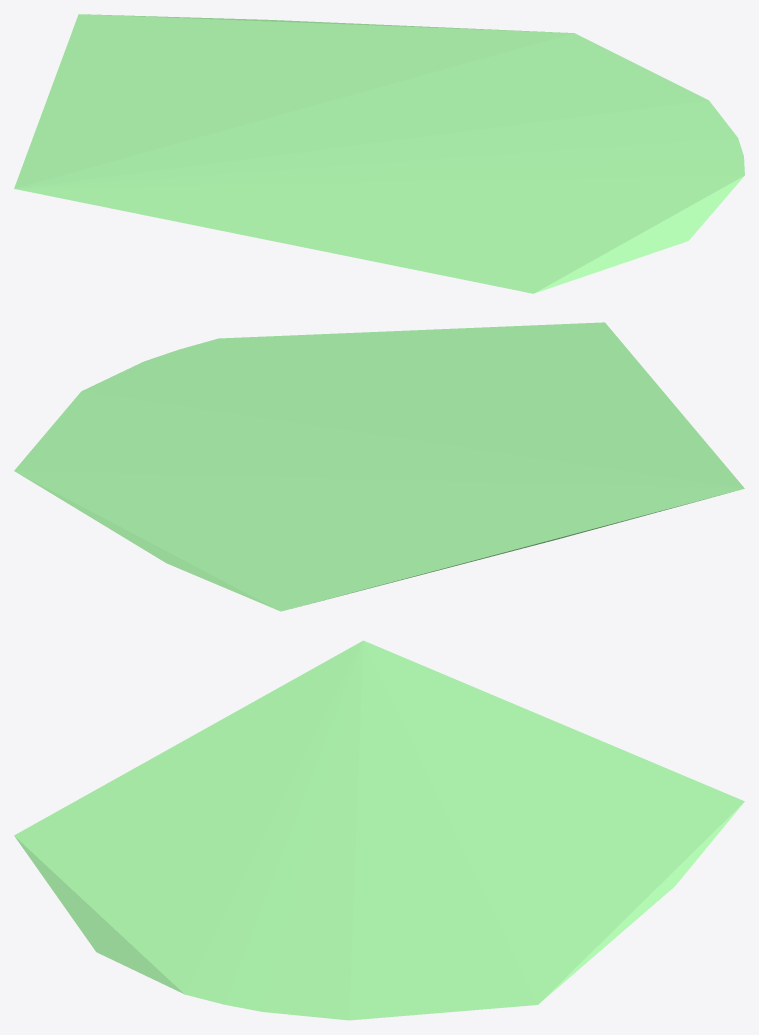
File: Franka_link6_resp_coll_2.dae
3 renders of one model, top to bottom at view 1: azimuth 30°, elevation 25°; view 2: azimuth 150°, elevation 25°; view 3: azimuth 270°, elevation 25°, orthographic. The views are drawn at different scales.
Visible parts, largest first — view 1: node; view 2: node; view 3: node.
Part boxes in pixels (x1,y1,x2,y2): node: [14, 14, 744, 293]; node: [14, 322, 744, 611]; node: [14, 640, 744, 1020].
Size of the model in its own units: 0.0326 by 0.00346 by 0.0323.
